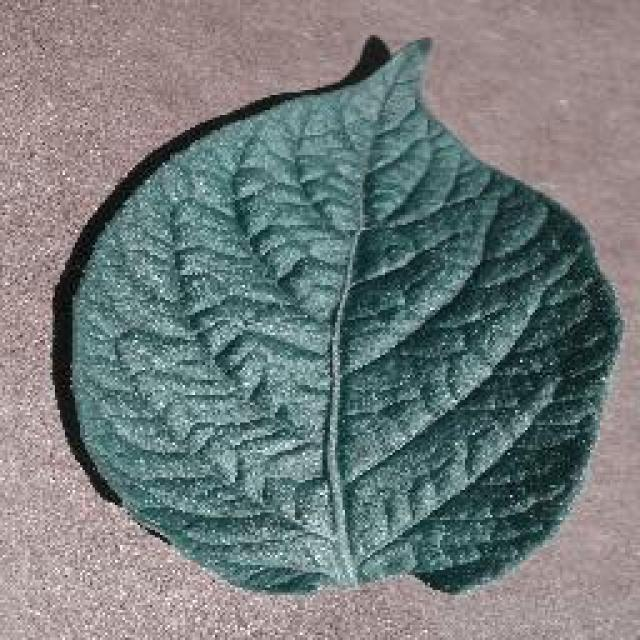Potato___healthy: (70, 36, 628, 600)
